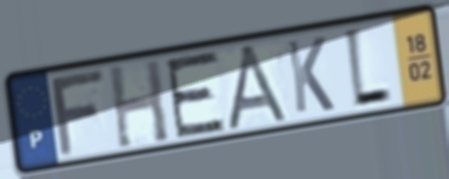A: (223, 41, 294, 133)
E: (162, 47, 228, 141)
F: (48, 66, 108, 161)
H: (105, 56, 172, 152)
K: (283, 33, 337, 116)
L: (341, 25, 395, 113)
